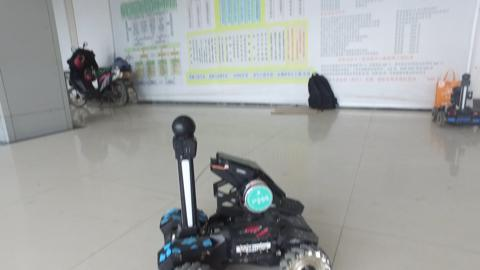bag: (305, 71, 340, 112), (432, 68, 461, 108)
chariot: (155, 113, 333, 270), (430, 71, 479, 128)
